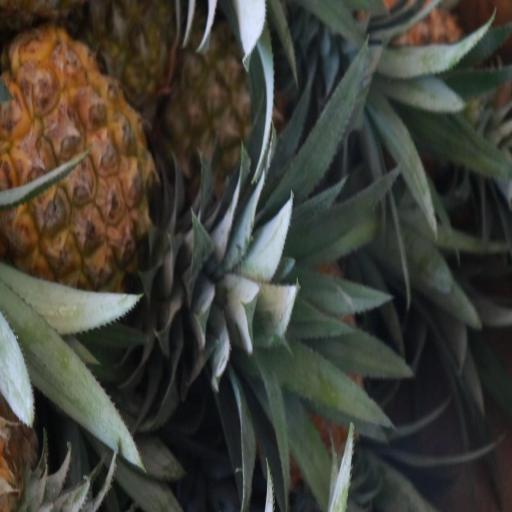Pineapple - v8 v1: (0, 32, 182, 305)
